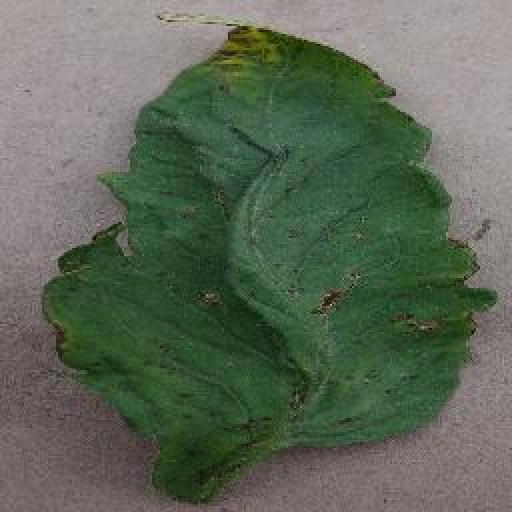Bacterial Spot: (42, 18, 498, 502)
